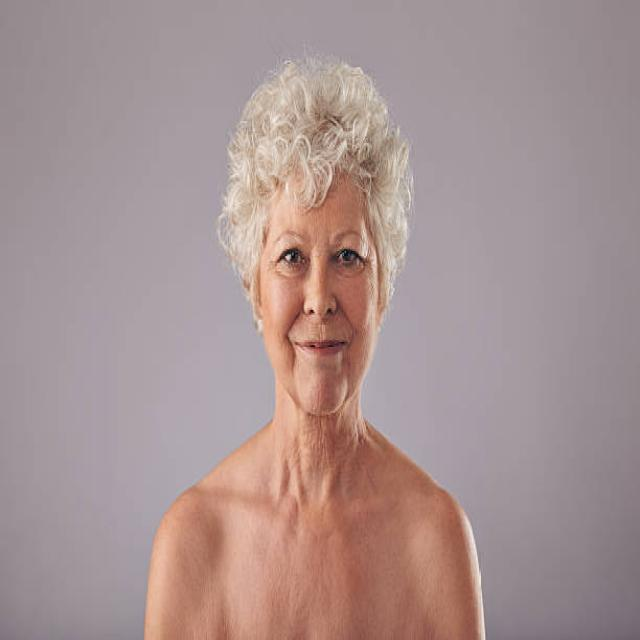Dry-Skin: (269, 399, 371, 495)
